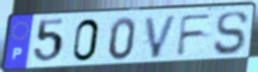0: (108, 15, 138, 63), (72, 17, 101, 64)
5: (32, 17, 67, 68)
F: (175, 12, 215, 59)
S: (212, 10, 250, 57)
V: (143, 13, 180, 60)
